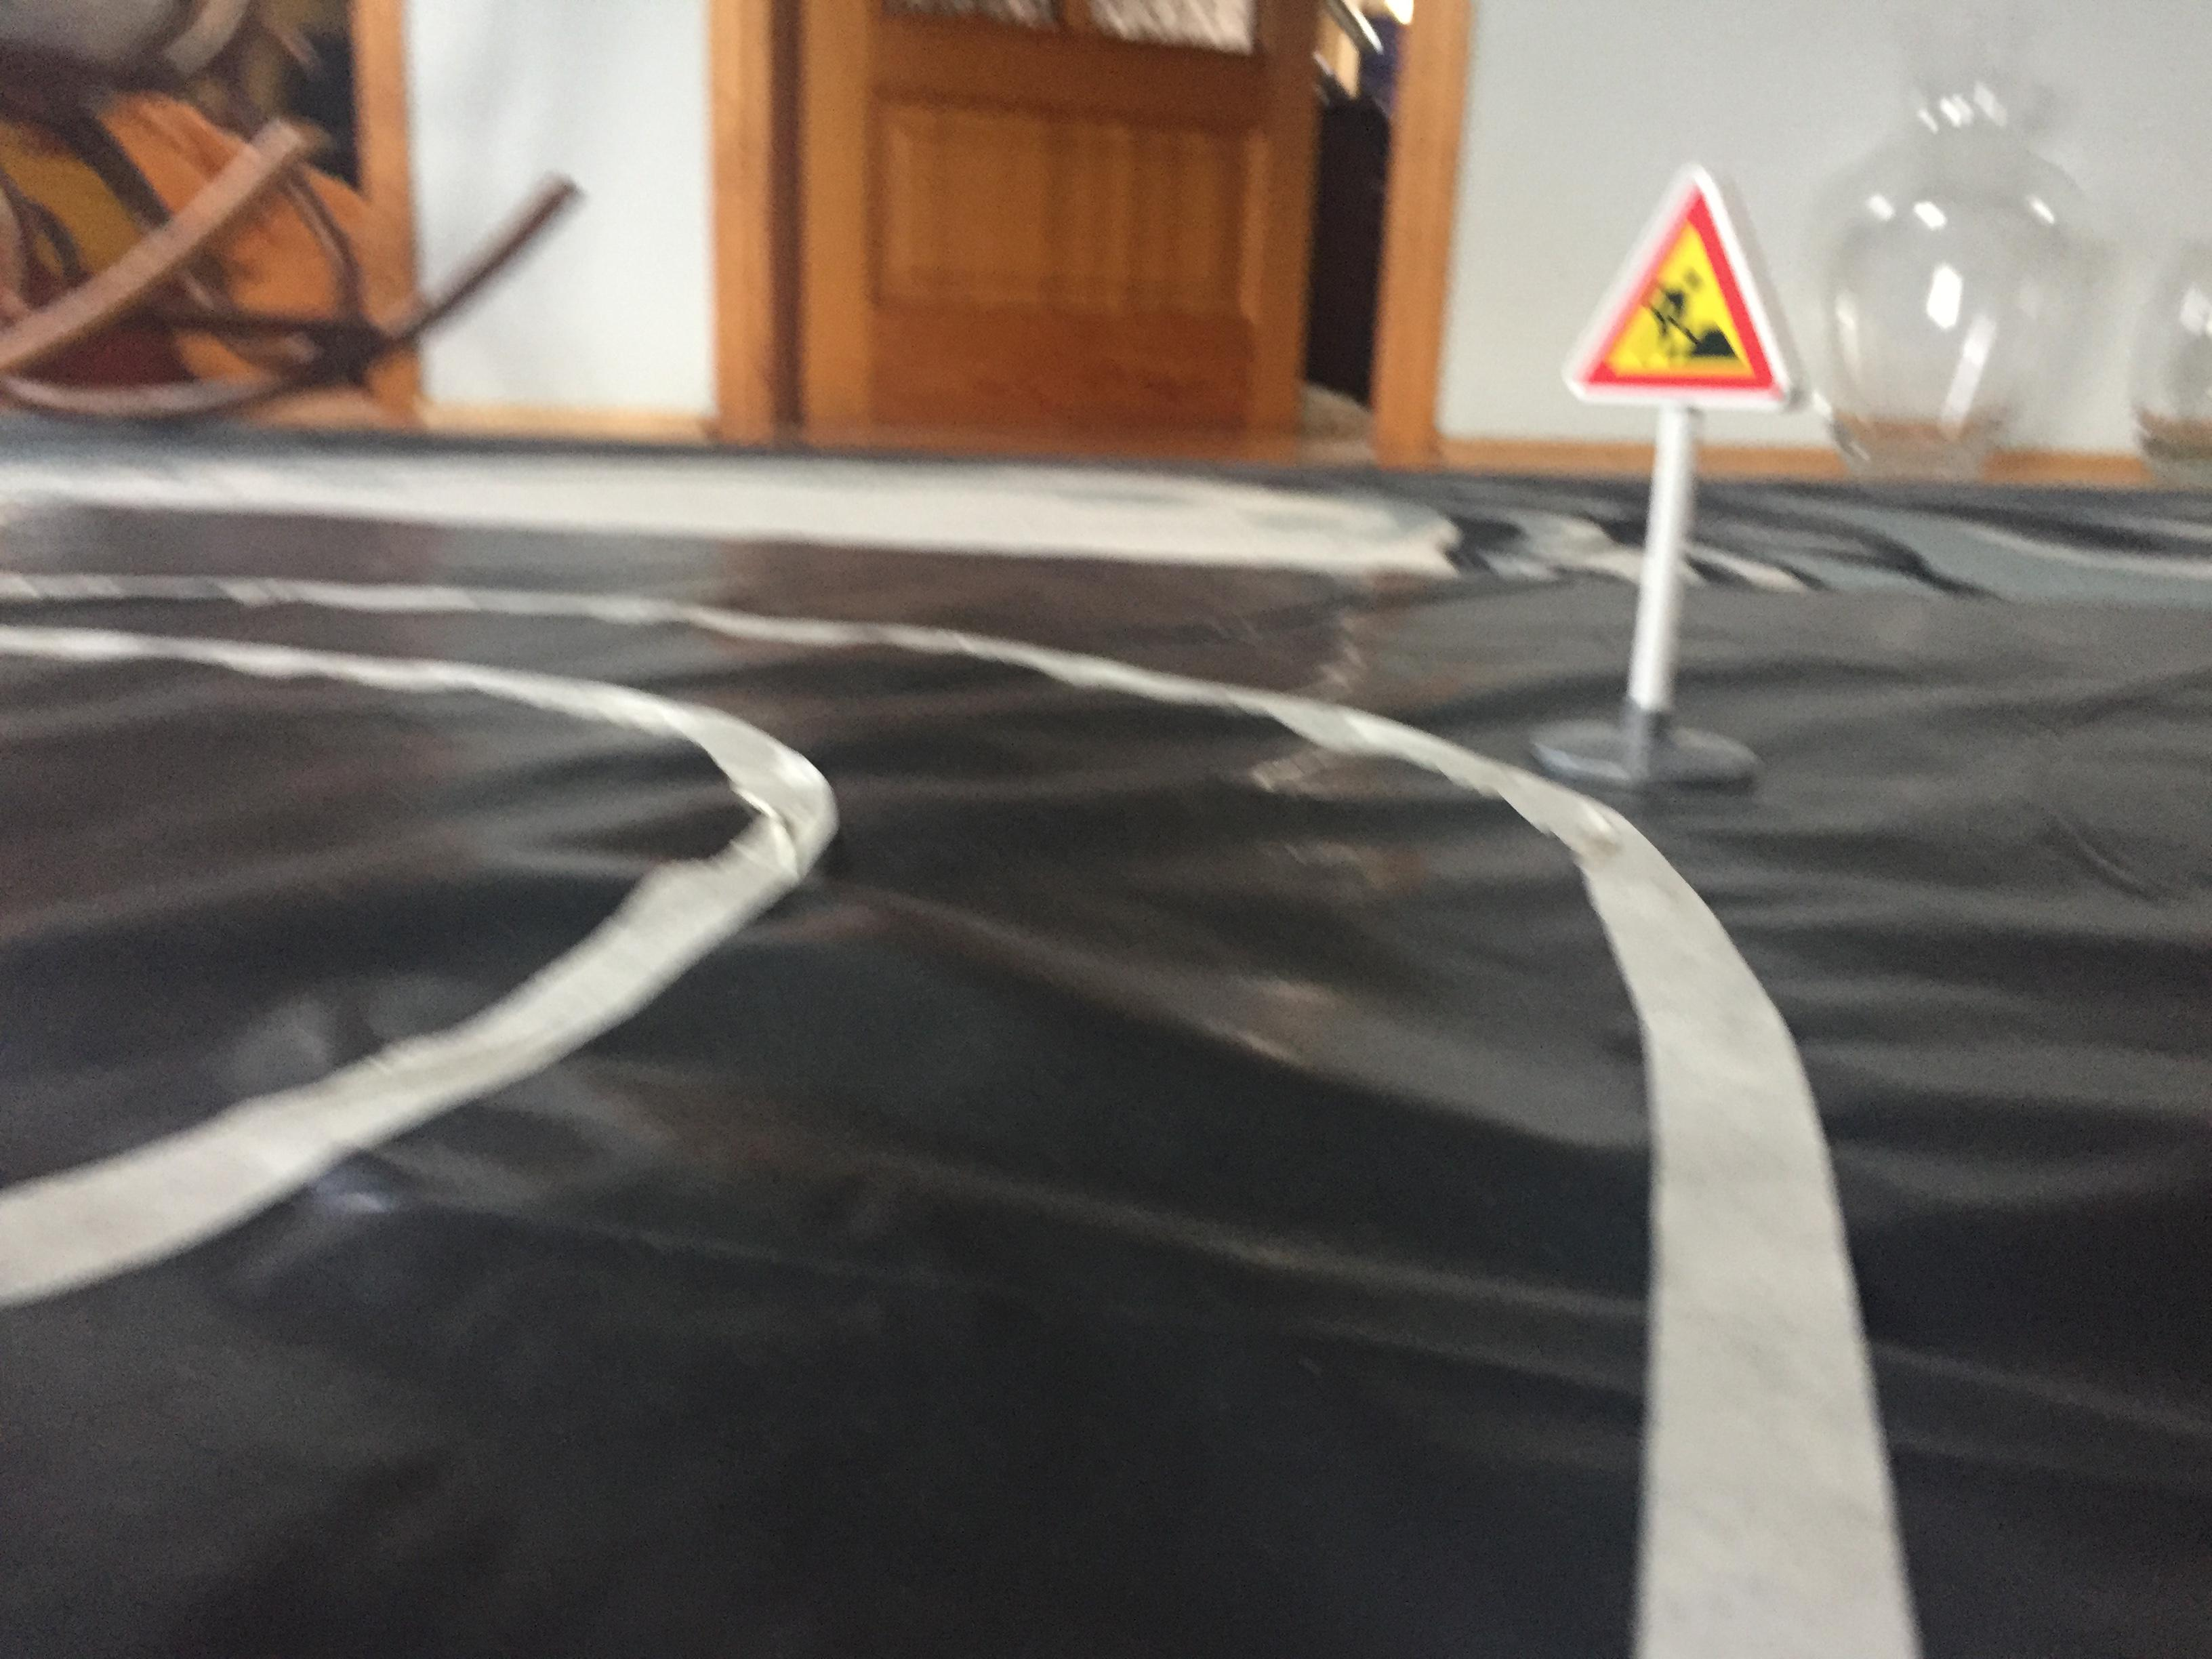work: (1552, 155, 1824, 416)
